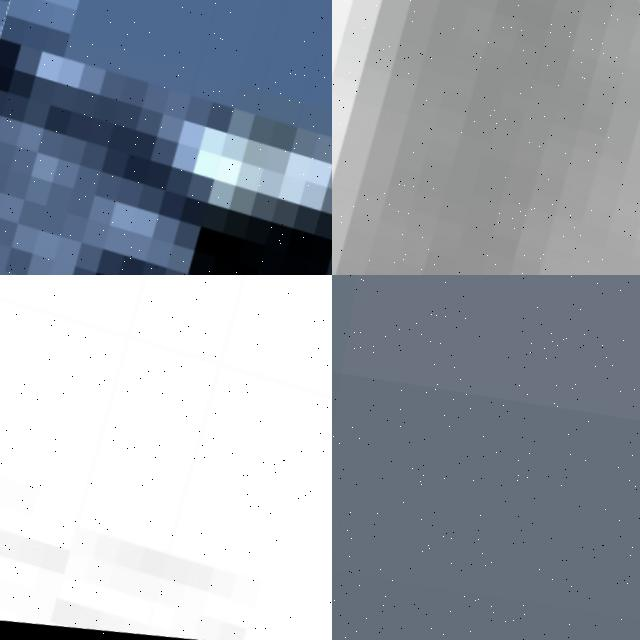0: (0, 0, 332, 275)
drone: (0, 275, 332, 640), (332, 0, 640, 275)
